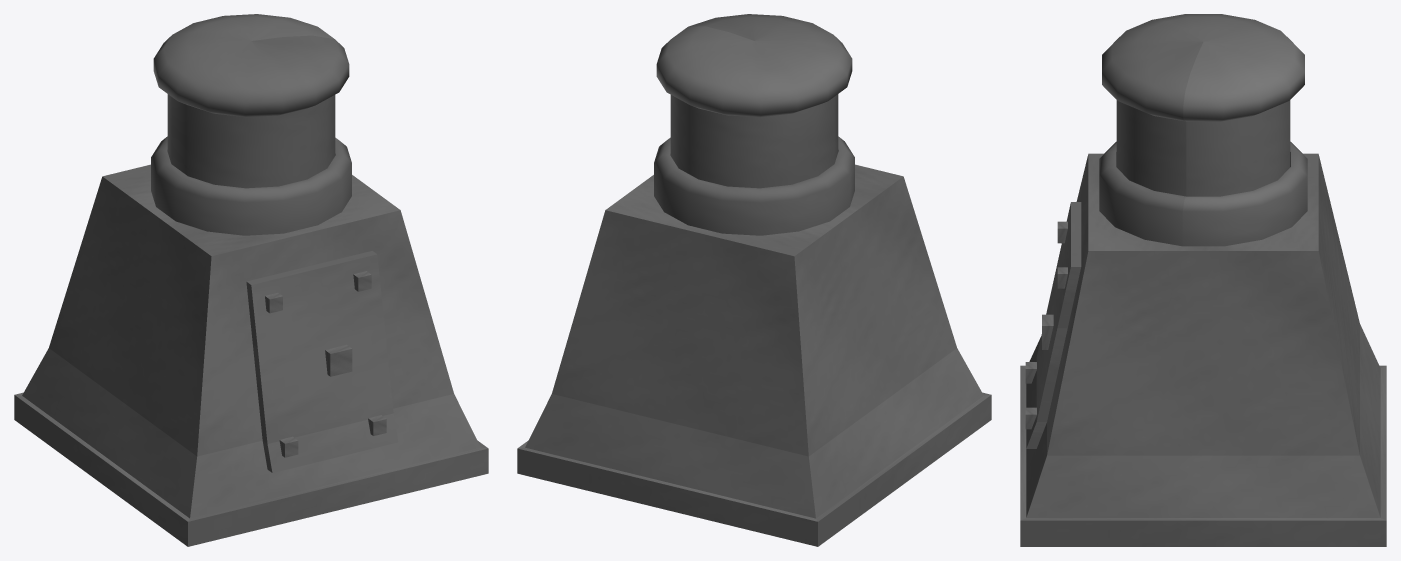
Rendered from pedestalpole_inv.obj.
3 views of the same model, side by side, from view 1: azimuth 30°, elevation 25°; view 2: azimuth 150°, elevation 25°; view 3: azimuth 270°, elevation 25° (orthographic). The views are drawn at different scales.
Visible parts, largest first — view 1: pedestalpole_inv; view 2: pedestalpole_inv; view 3: pedestalpole_inv.
Boxes of the visible parts, <box> form: pedestalpole_inv: <box>14,14,488,546</box>; pedestalpole_inv: <box>517,14,991,546</box>; pedestalpole_inv: <box>1020,14,1386,546</box>.
Size of the model in its own units: 0.775 by 0.9994 by 0.775.
